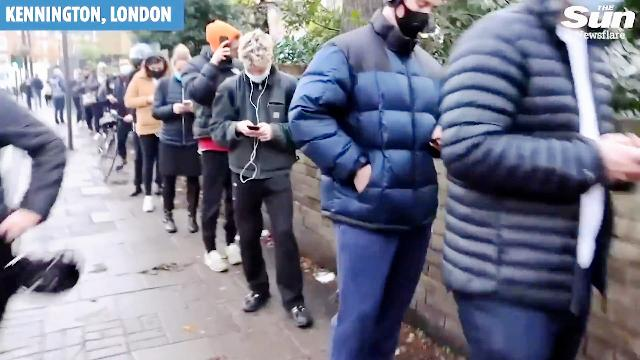berdiri: (200, 35, 322, 331), (148, 44, 206, 244)
